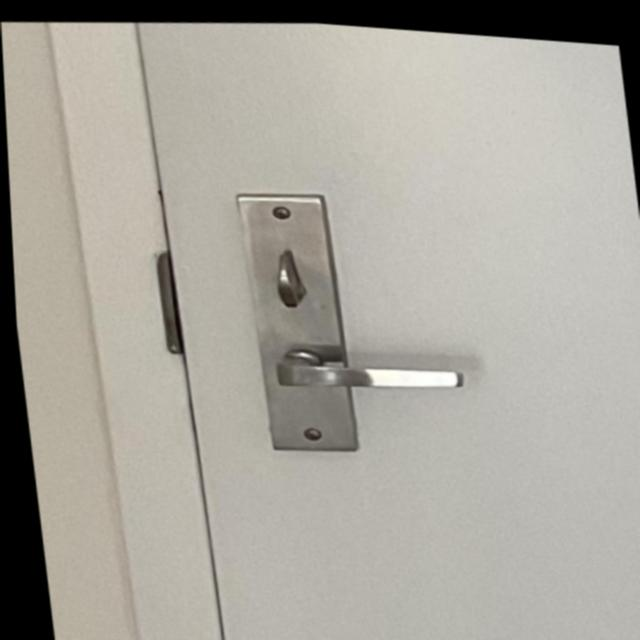door_handle: (245, 310, 476, 420)
